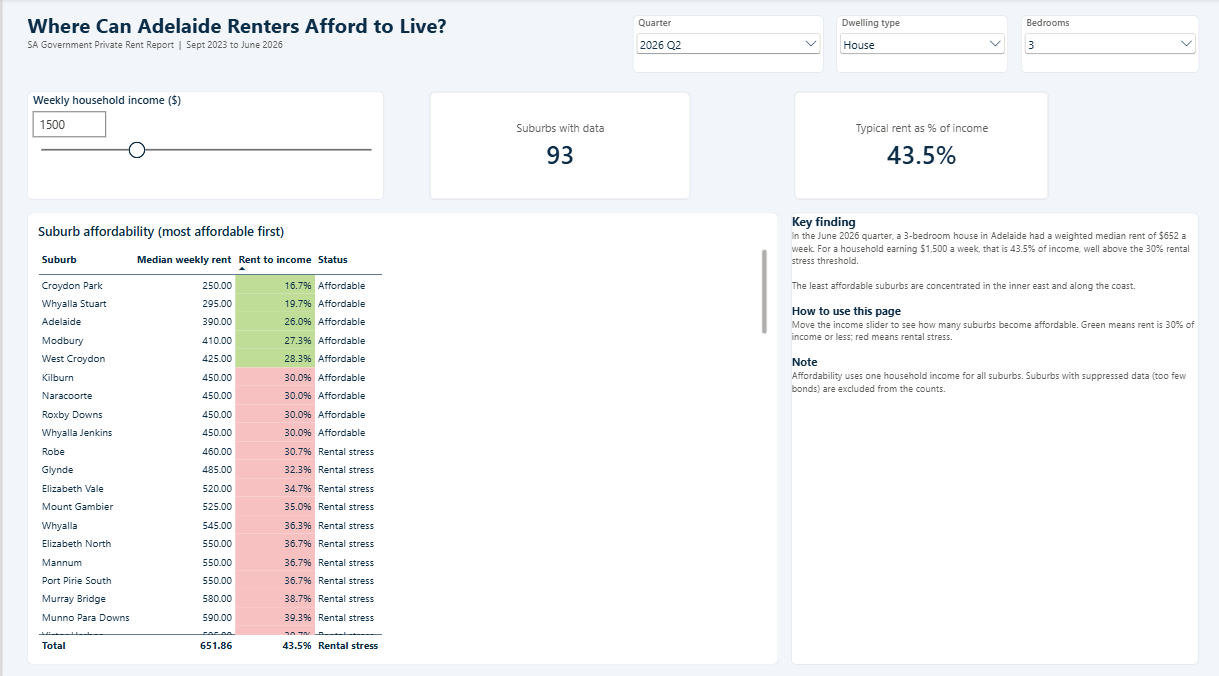

This screenshot's page, from the dashboard's own definition file:
{"tool":"powerbi","page":{"name":"Affordability","canvas":[1920,1080],"ordinal":2},"visuals":[{"type":"slicer","fields":{"Values":["Weekly income.Weekly income"]},"box":[40,150,560,170],"z":10},{"type":"cardVisual","fields":{"Data":["Measure_details.Affordable Suburbs"]},"box":[620,150,410,170],"z":11},{"type":"cardVisual","fields":{"Data":["Measure_details.Suburbs With Data"]},"box":[1050,150,410,170],"z":12},{"type":"cardVisual","fields":{"Data":["Measure_details.Rent to Income %"]},"box":[1480,150,400,170],"z":13},{"type":"tableEx","title":"Suburb affordability (most affordable first)","fields":{"Values":["Rent.Suburb","Measure_details.Weighted Median Rent","Measure_details.Rent to Income %","Measure_details.Affordability Status"]},"box":[40,340,1180,710],"z":20},{"type":"textbox","box":[1240,340,640,710],"z":30},{"type":"textbox","box":[40,22,900,110],"z":100},{"type":"slicer","fields":{"Values":["Date.Year Quarter"]},"box":[990,30,300,90],"z":200},{"type":"slicer","fields":{"Values":["Rent.Dwelling Type"]},"box":[1310,30,270,90],"z":201},{"type":"slicer","fields":{"Values":["Rent.Bedrooms"]},"box":[1600,30,280,90],"z":202}]}

Visuals, with their boxes in screenshot pixels (x1, y1, x2, y2), scaled from the page's 1920x1080 canvas onto the 1219x676 screenshot:
slicer - Weekly income.Weekly income: (left=25, top=94, right=381, bottom=200)
cardVisual - Measure_details.Affordable Suburbs: (left=394, top=94, right=654, bottom=200)
cardVisual - Measure_details.Suburbs With Data: (left=667, top=94, right=927, bottom=200)
cardVisual - Measure_details.Rent to Income %: (left=940, top=94, right=1194, bottom=200)
"Suburb affordability (most affordable first)" tableEx: (left=25, top=213, right=775, bottom=657)
textbox: (left=787, top=213, right=1194, bottom=657)
textbox: (left=25, top=14, right=597, bottom=83)
slicer - Date.Year Quarter: (left=629, top=19, right=819, bottom=75)
slicer - Rent.Dwelling Type: (left=832, top=19, right=1003, bottom=75)
slicer - Rent.Bedrooms: (left=1016, top=19, right=1194, bottom=75)
